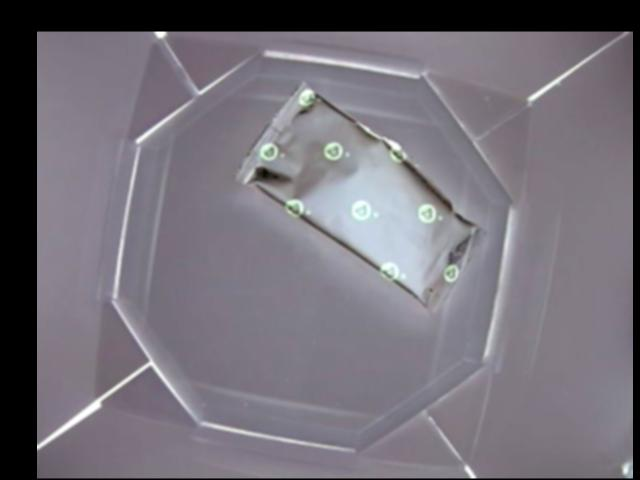Medicine: (234, 77, 490, 315)
